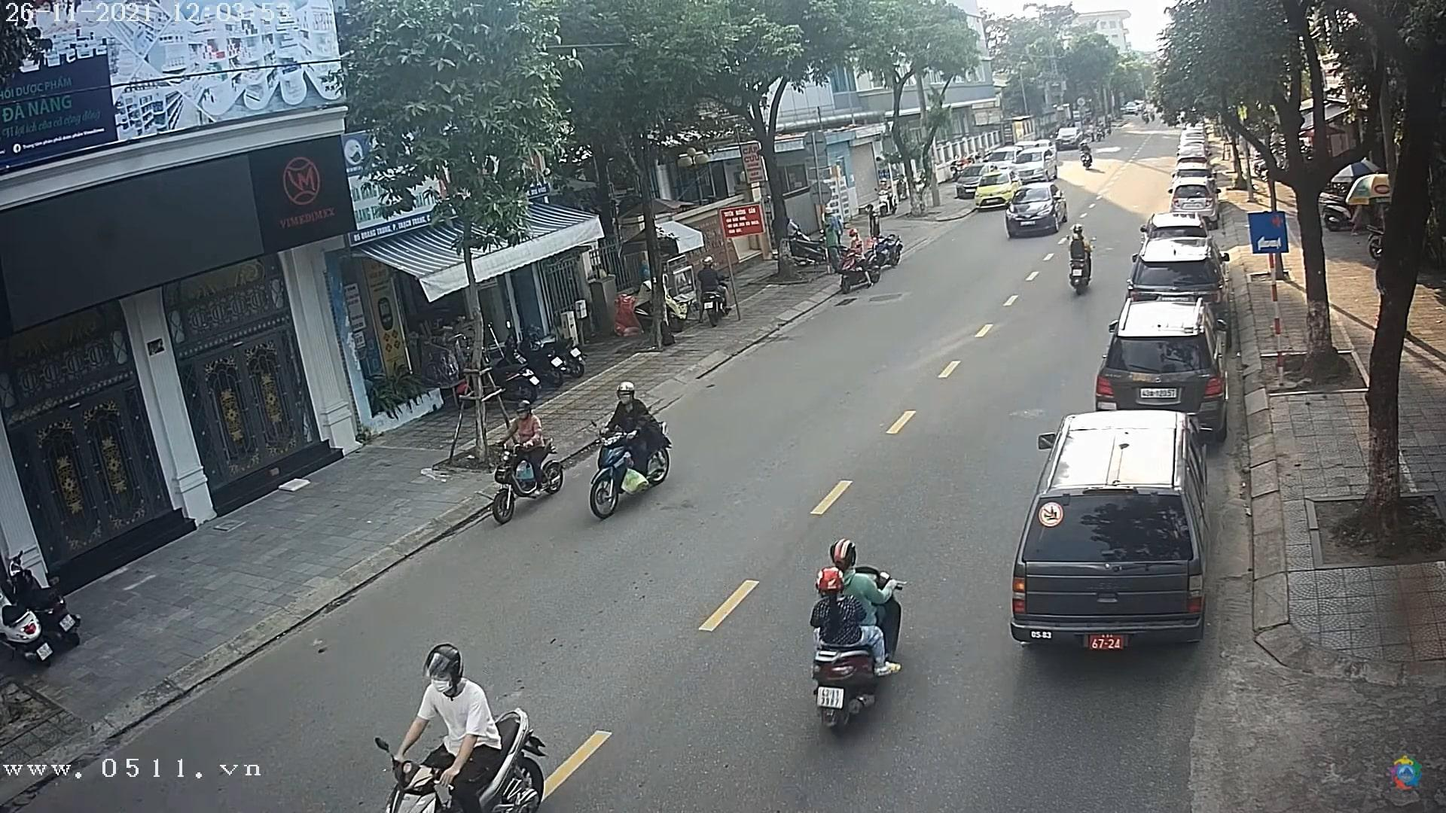car: (1014, 413, 1207, 648), (1098, 296, 1227, 424), (1128, 236, 1225, 300), (1006, 184, 1068, 239)
motorbike: (810, 616, 908, 743), (586, 415, 674, 523), (1066, 254, 1098, 300)
